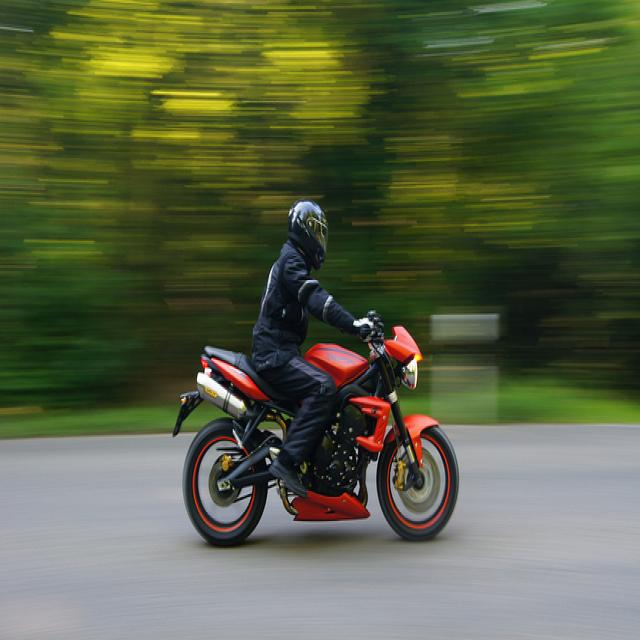motor: (172, 310, 459, 548)
